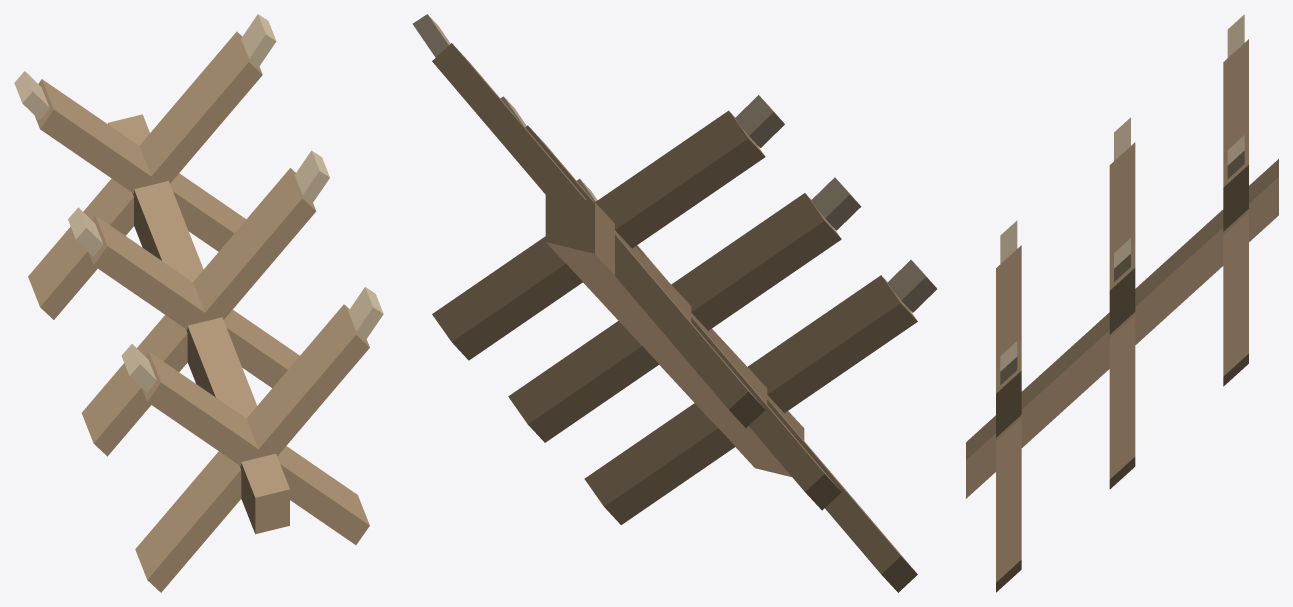
Rendered from barricade.glb.
3 views of the same model, side by side, from view 1: azimuth 30°, elevation 25°; view 2: azimuth 150°, elevation 25°; view 3: azimuth 270°, elevation 25° (orthographic). The views are drawn at different scales.
Parts seen in each view (by area): view 1: barricade; view 2: barricade; view 3: barricade.
Part boxes in pixels (x1,y1,x2,y2): barricade: (14,14,383,592); barricade: (412,14,936,592); barricade: (966,14,1278,592).
Size of the model in its own units: 43.82 by 72.63 by 44.
